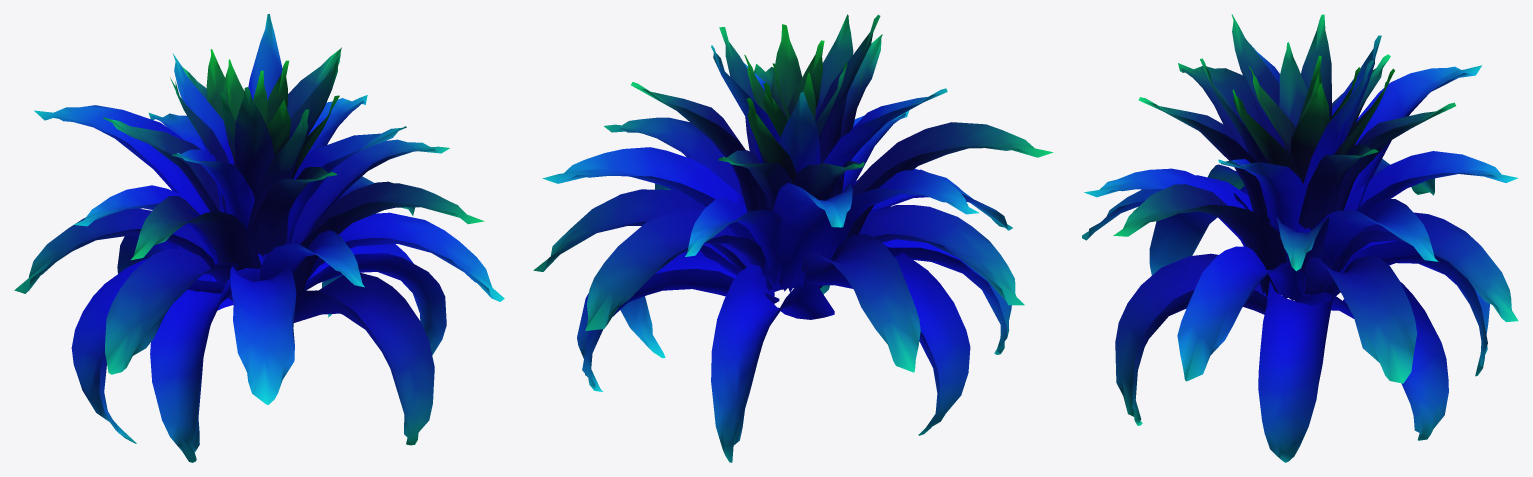
The model's file is Bromelia.FBX.
3 views of the same model, side by side, from view 1: azimuth 30°, elevation 25°; view 2: azimuth 150°, elevation 25°; view 3: azimuth 270°, elevation 25° (orthographic). The views are drawn at different scales.
Parts seen in each view (by area): view 1: Bromelia; view 2: Bromelia; view 3: Bromelia.
Part boxes in pixels (x1,y1,x2,y2): Bromelia: (14, 14, 504, 462); Bromelia: (533, 14, 1053, 462); Bromelia: (1082, 14, 1518, 462).
Size of the model in its own units: 0.9108 by 0.8751 by 0.8056.
